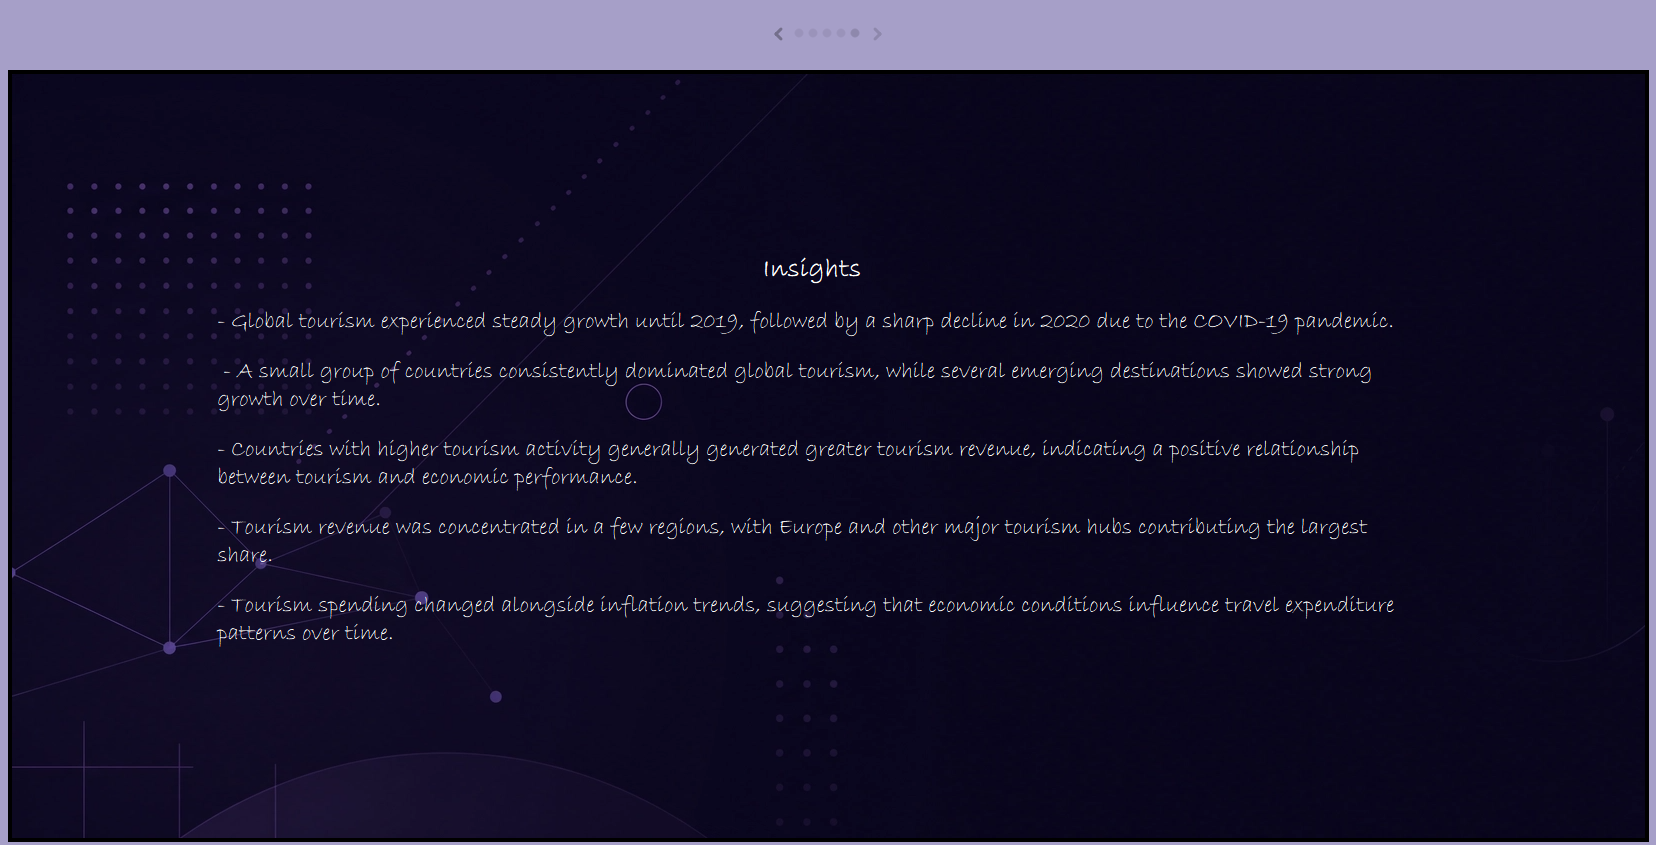

This screenshot's page, from the dashboard's own definition file:
{"tool":"tableau","page":{"name":"insights","canvas":[1000,1000],"units":"permille","ordinal":4},"visuals":[{"type":"image","param":"Image/purple_data_visualization.png","box":[0,0,1000,1000]},{"type":"text","box":[123,85,734,822.5]}]}

Visuals, with their boxes on the dashboard's canvas, which has no fixed pixel size, in thousandths of its width and height (x1, y1, x2, y2). These are canvas units, not pixel positions in the 1656x845 screenshot, which may show the page scaled, cropped or inside an application window:
image: pyautogui.locateOnScreen(0, 0, 1000, 1000)
text: pyautogui.locateOnScreen(123, 85, 857, 908)
